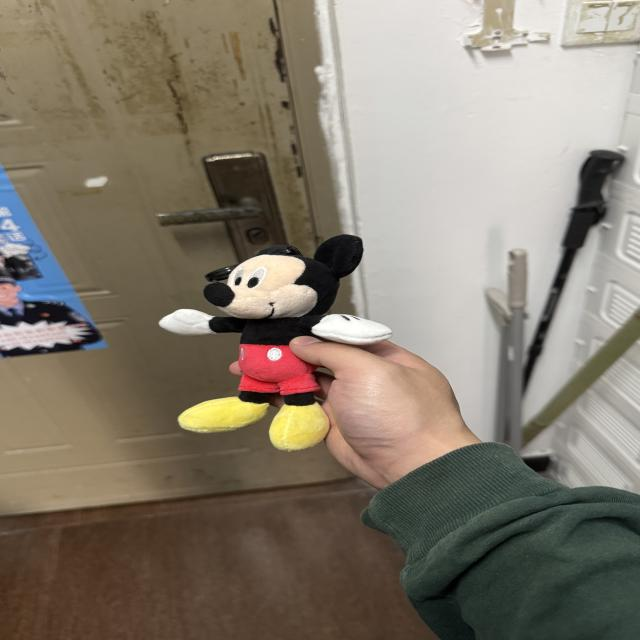mickey: (160, 235, 391, 450)
